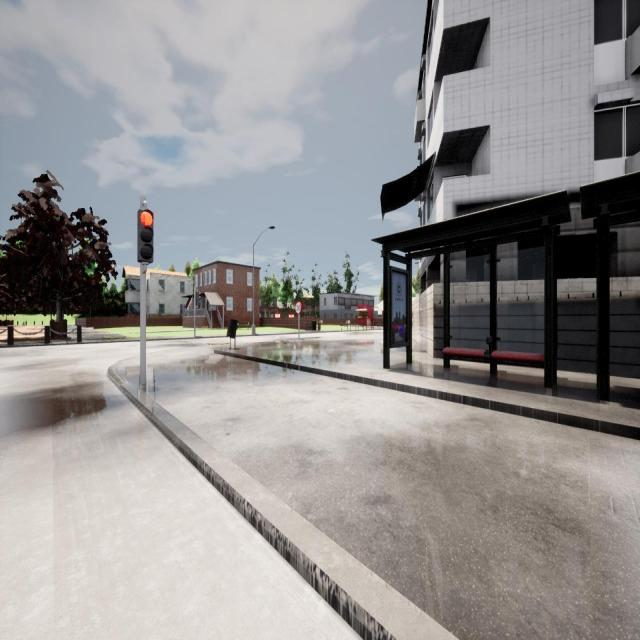Traffic_Signs: (295, 302, 303, 314)
traffic_light: (137, 208, 154, 263), (195, 291, 201, 306)
